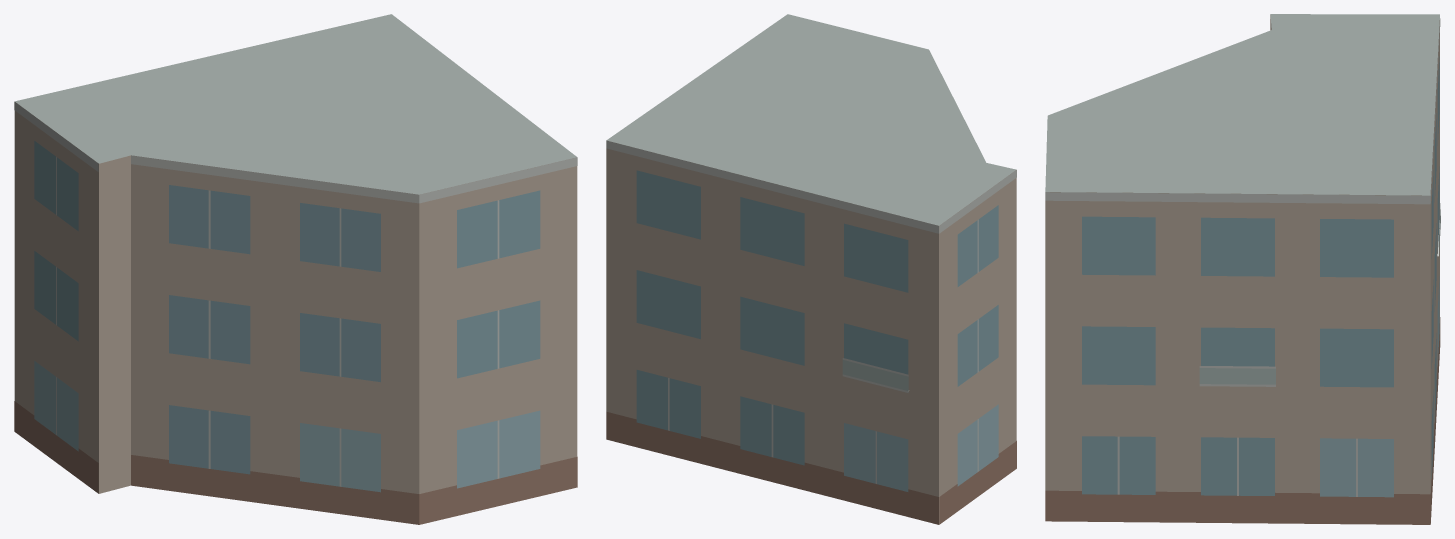
Rendered from survey-upis-32658929.glb.
3 views of the same model, side by side, from view 1: azimuth 30°, elevation 25°; view 2: azimuth 150°, elevation 25°; view 3: azimuth 270°, elevation 25° (orthographic). The views are drawn at different scales.
Parts seen in each view (by area): view 1: survey-upis-32658929.tmp; view 2: survey-upis-32658929.tmp; view 3: survey-upis-32658929.tmp.
Boxes of the visible parts, bbox=[...] form: survey-upis-32658929.tmp: bbox=[14, 14, 577, 524]; survey-upis-32658929.tmp: bbox=[606, 14, 1016, 524]; survey-upis-32658929.tmp: bbox=[1045, 14, 1440, 524].
Bounding box in the file's own units: 10.83 × 9.15 × 9.97.
